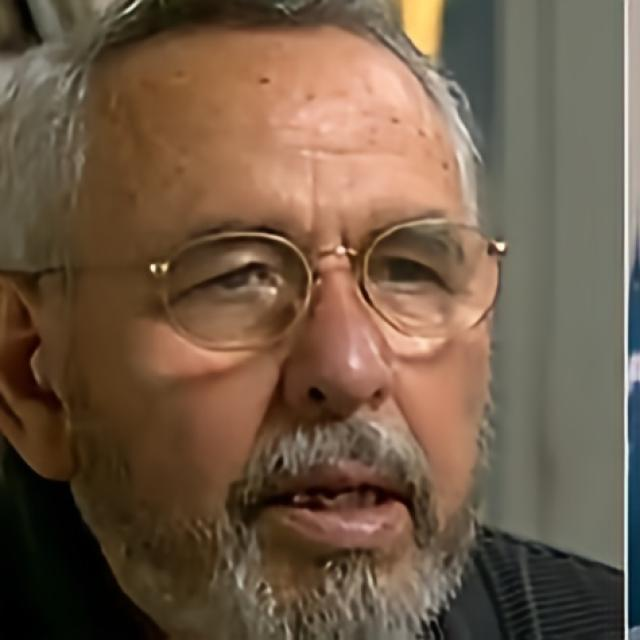anger: (71, 22, 495, 640)
